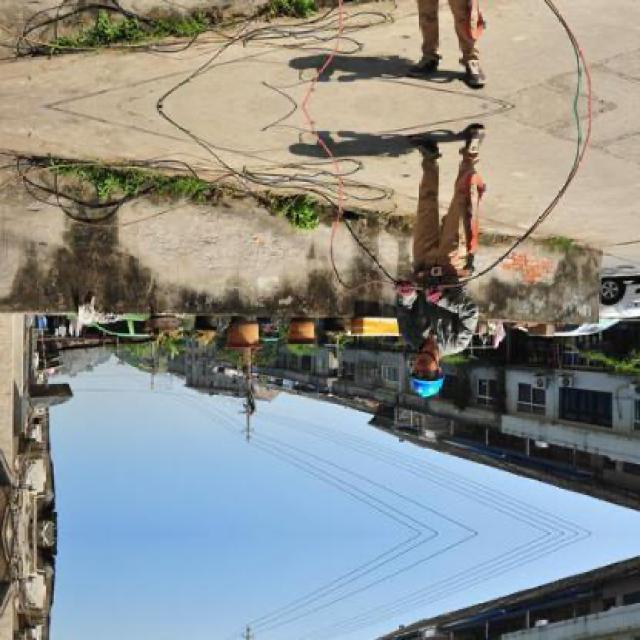con casco: (408, 334, 455, 416)
